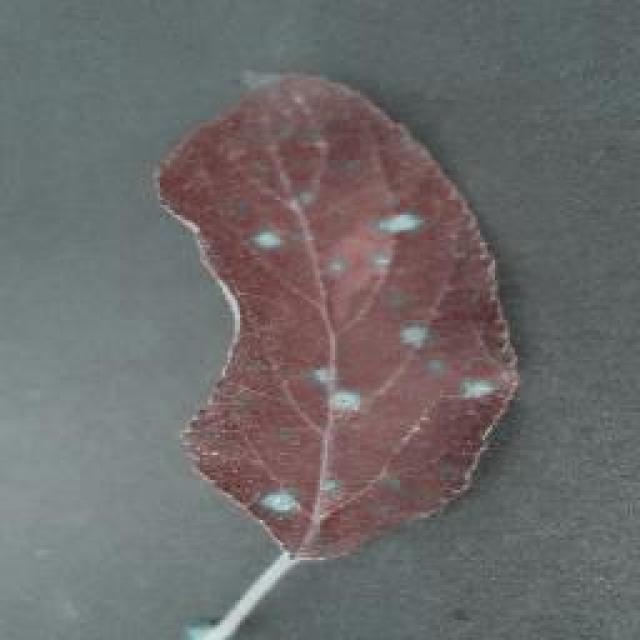apple scab disease: (152, 68, 520, 562)
